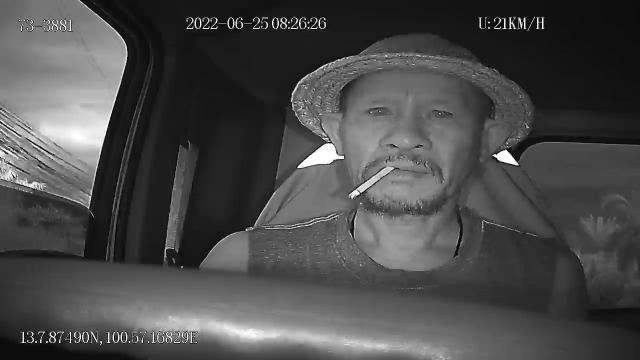SafeDriving: (418, 97, 461, 125), (360, 98, 398, 120)
Smoking: (350, 165, 394, 199)
